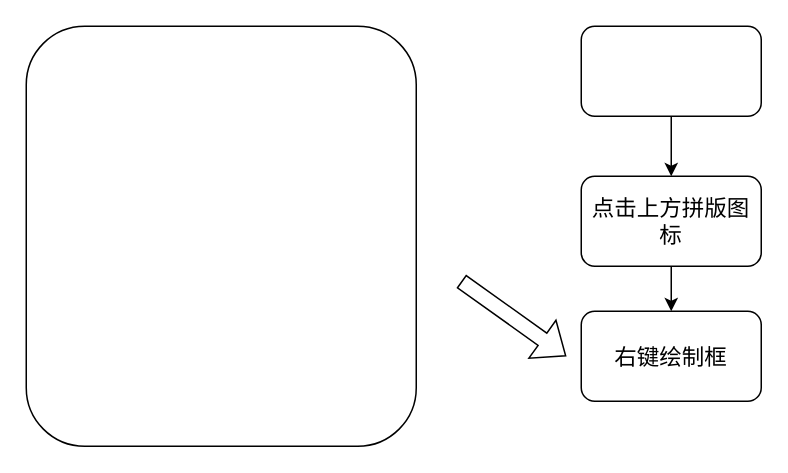
This 788x473 diagram has some shape labels left out. Here are the shapes that lost their labels. From the top down, the centre of each, then its label:
At (670,70): "开始".
At (220,235): "1. 将拼版和元件绑定的操作如果需要在osg那一层做，那么basicimagecontrol就需要记录当前绘制的是元件框还是拼版框，造成业务逻辑的下沉".
